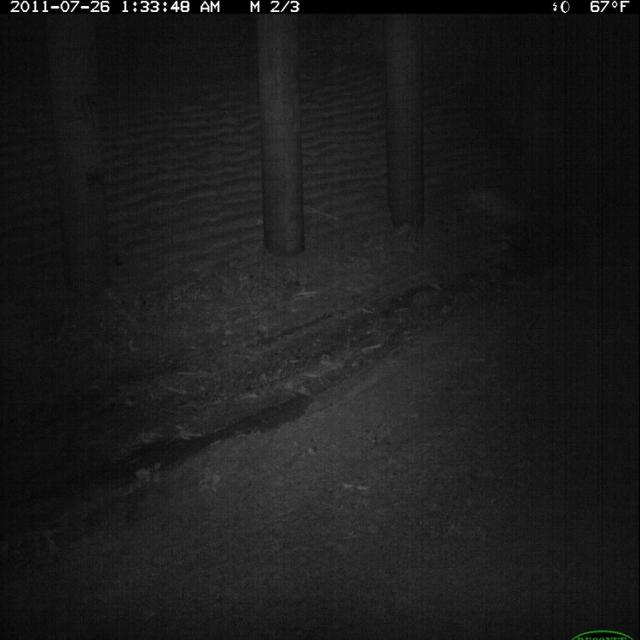raccoon: (3, 2, 640, 640)
